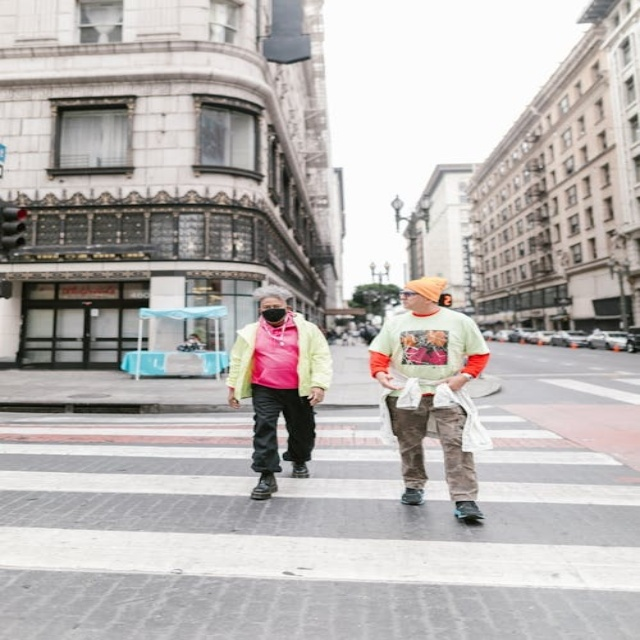Gafas: (396, 288, 420, 299)
Mascara: (261, 308, 288, 322)
Sin_gafas: (259, 301, 285, 310)
Sin_guantes: (436, 375, 468, 391), (303, 388, 328, 405), (371, 372, 397, 388), (224, 392, 243, 409)
Sin_mascara: (398, 299, 417, 309)
